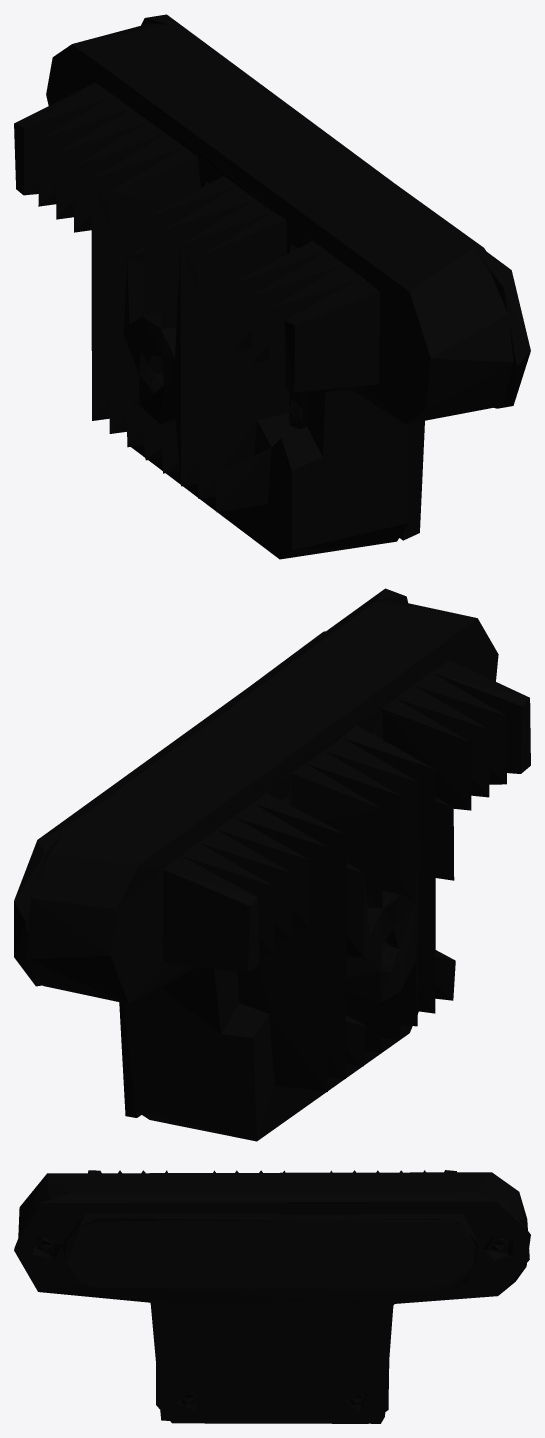
Rendered from camera_link.dae.
The picture shows the model from 3 angles, top to bottom: view 1: azimuth 30°, elevation 25°; view 2: azimuth 150°, elevation 25°; view 3: azimuth 270°, elevation 25°; orthographic projection. The views are drawn at different scales.
Visible parts, largest first — view 1: camera_link; view 2: camera_link; view 3: camera_link.
Boxes of the visible parts, x1,y1,x2,y2 form: camera_link: (14,14,530,559); camera_link: (14,588,530,1141); camera_link: (14,1170,530,1423).
Size of the model in its own units: 0.033 by 0.1103 by 0.0544.
1 material, 1 textured.
